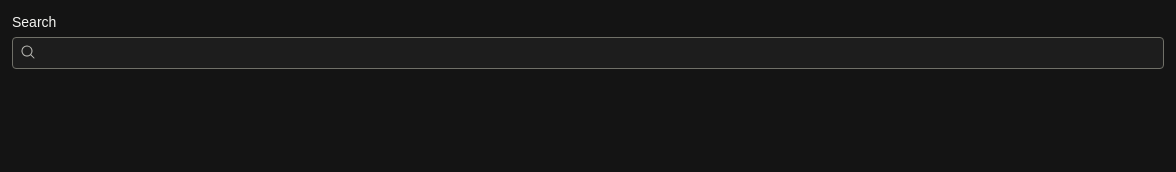
Scenario: clears search through a named button and returns input focus
The image size is (1176, 172).
Type "hero" into the search field at {"x": 588, "y": 53}, box [12,37,1164,69]
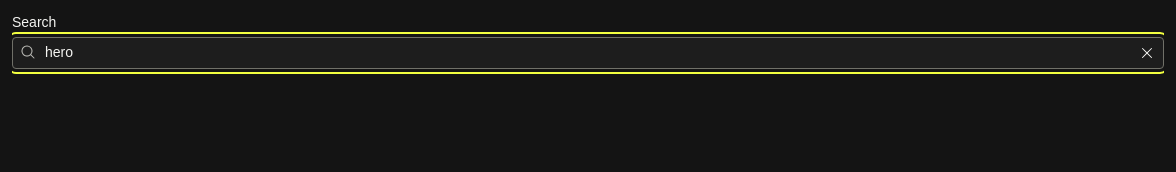
Click the button named "Clear search" at {"x": 1147, "y": 53}, box [1131,37,1163,69]
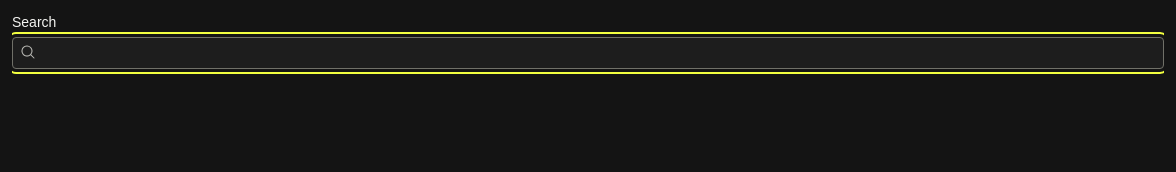
Expected: the search field is empty, [12,37,1164,69]
